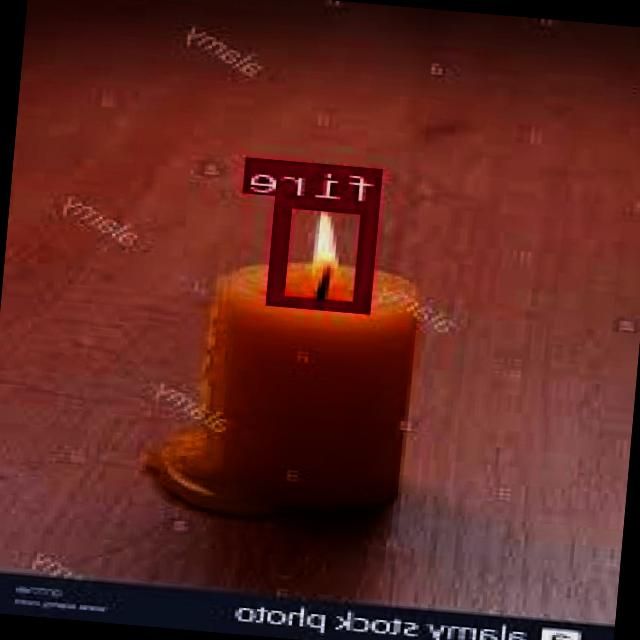fire: (272, 194, 382, 311)
